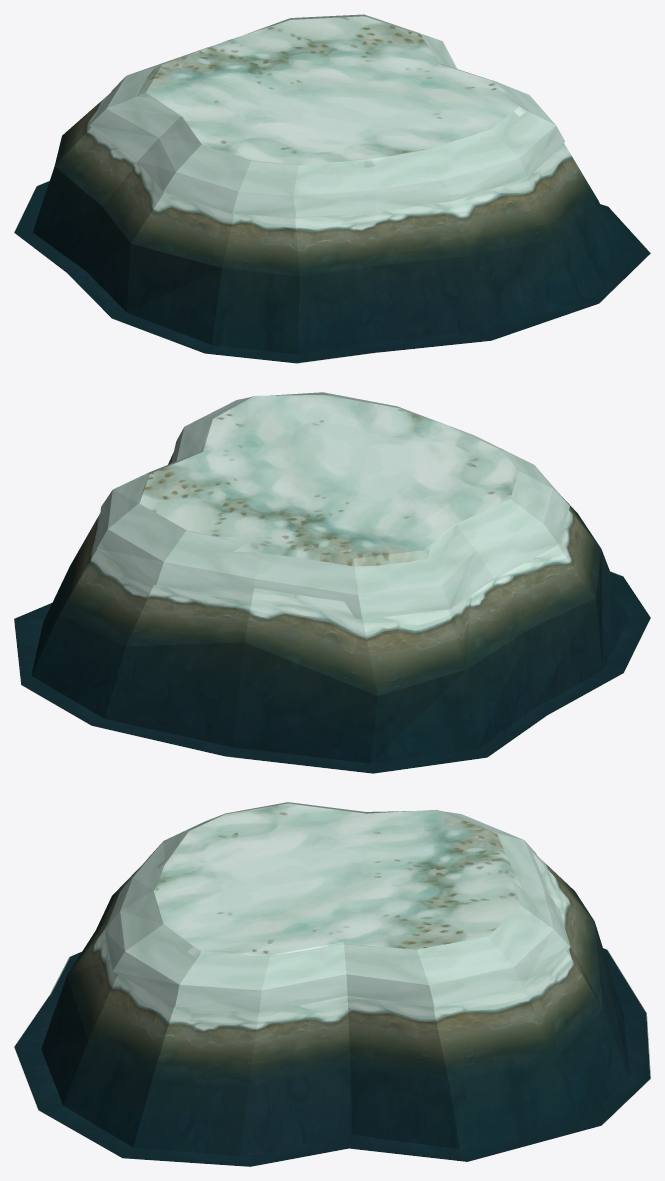
File: riverbed_mesa_02.fbx
The picture shows the model from 3 angles, top to bottom: view 1: azimuth 30°, elevation 25°; view 2: azimuth 150°, elevation 25°; view 3: azimuth 270°, elevation 25°; orthographic projection. The views are drawn at different scales.
Parts seen in each view (by area): view 1: obj2.003; view 2: obj2.003; view 3: obj2.003.
Part boxes in pixels (x1,y1,x2,y2): obj2.003: (14, 14, 650, 363); obj2.003: (14, 392, 650, 773); obj2.003: (14, 802, 650, 1166).
Bounding box in the file's own units: 14.24 × 4.06 × 14.79.
